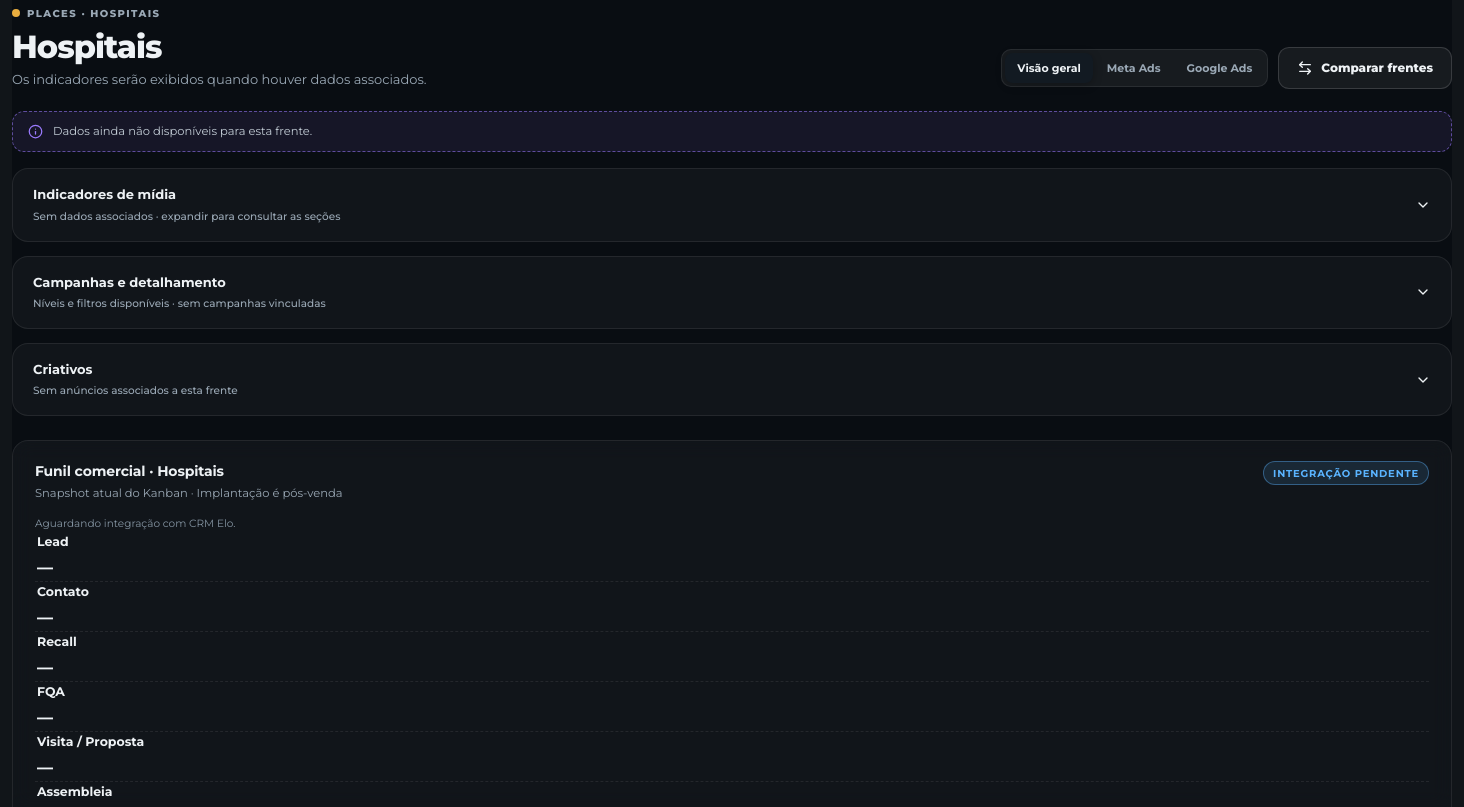
Test case: modo Comparar frentes › abre em hospital sem criar uma nova página
Click the button "Comparar frentes" at (1365, 68), box [1278, 47, 1452, 89]
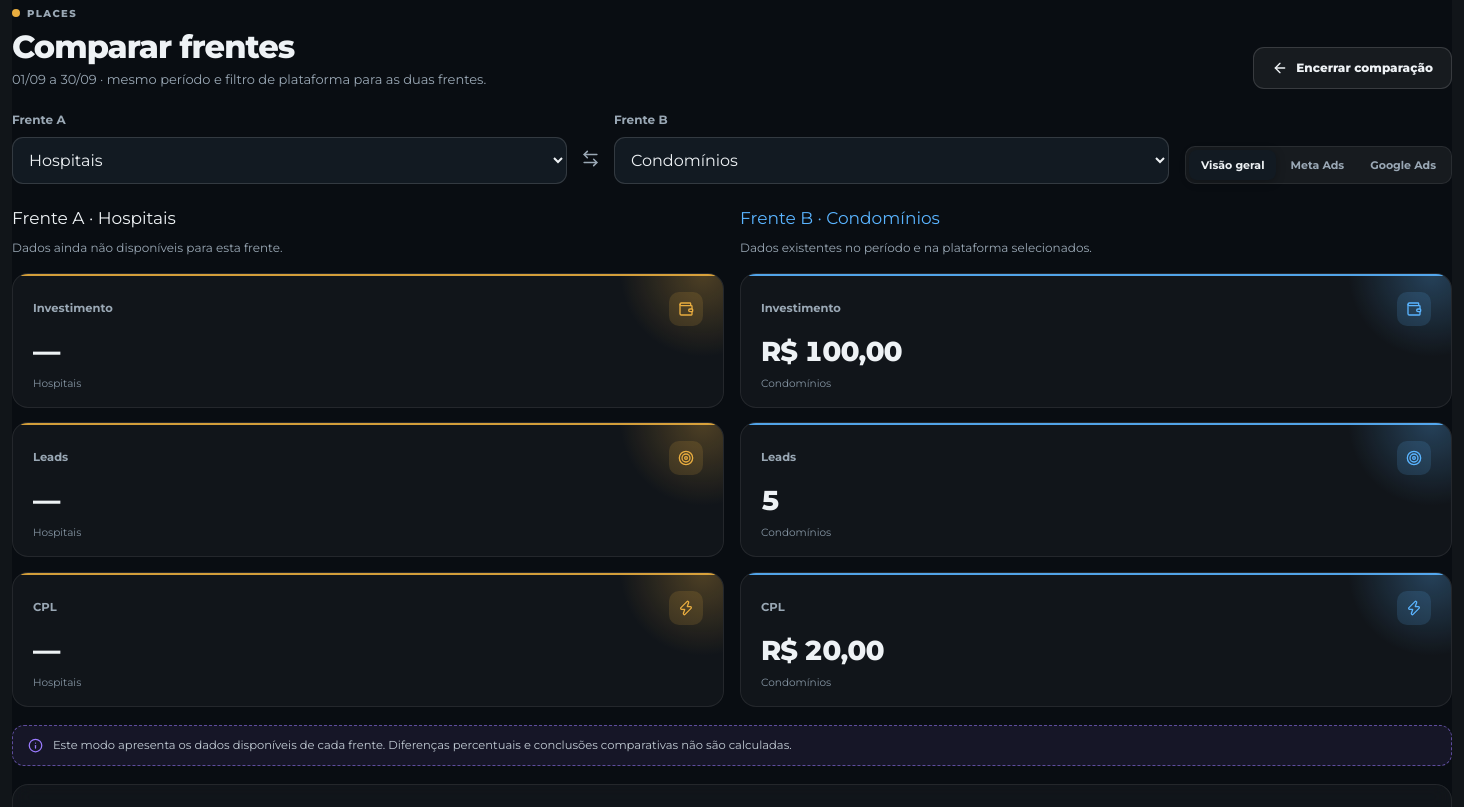
Expected: the dropdown labelled "Frente A" shows "Hospitais", [12, 137, 567, 184]
Expected: the dropdown labelled "Frente B" shows "Condomínios", [614, 137, 1169, 184]
